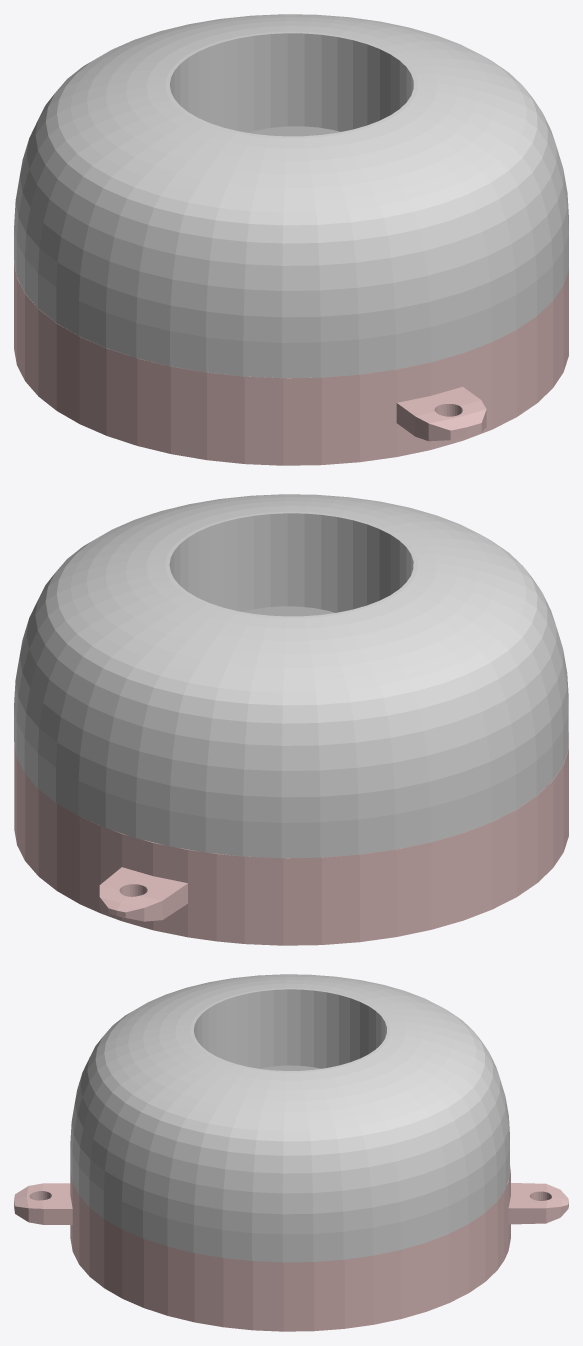
The model's file is маяк 12 кп.fbx.
The picture shows the model from 3 angles, top to bottom: view 1: azimuth 30°, elevation 25°; view 2: azimuth 150°, elevation 25°; view 3: azimuth 270°, elevation 25°; orthographic projection. The views are drawn at different scales.
Parts seen in each view (by area): view 1: Cylinder, Cylinder.001, Cone; view 2: Cylinder, Cylinder.001, Cone; view 3: Cylinder, Cylinder.001.
Boxes of the visible parts, x1,y1,x2,y2 form: Cylinder: (14, 14, 568, 378); Cylinder.001: (14, 261, 568, 465); Cone: (248, 126, 339, 136); Cylinder: (14, 494, 568, 858); Cylinder.001: (14, 732, 568, 945); Cone: (243, 606, 334, 616); Cylinder: (70, 974, 509, 1262); Cylinder.001: (14, 1165, 568, 1331).
Size of the model in its own units: 8 by 4.19 by 10.1.
